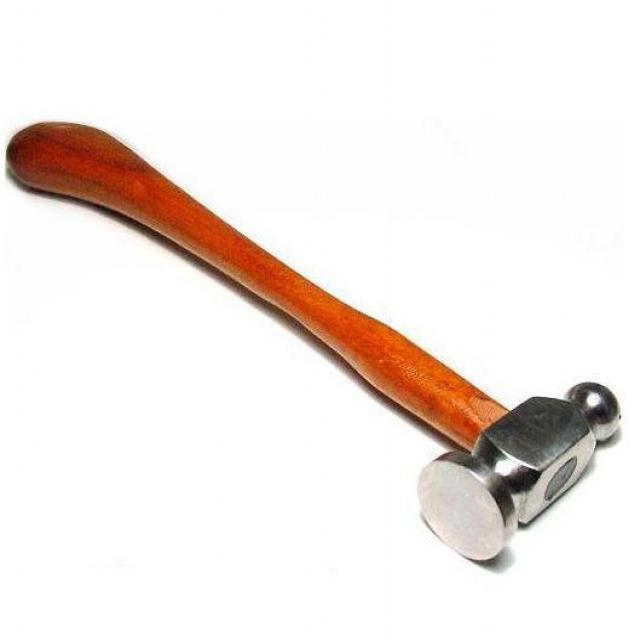hammer: (0, 109, 632, 580)
